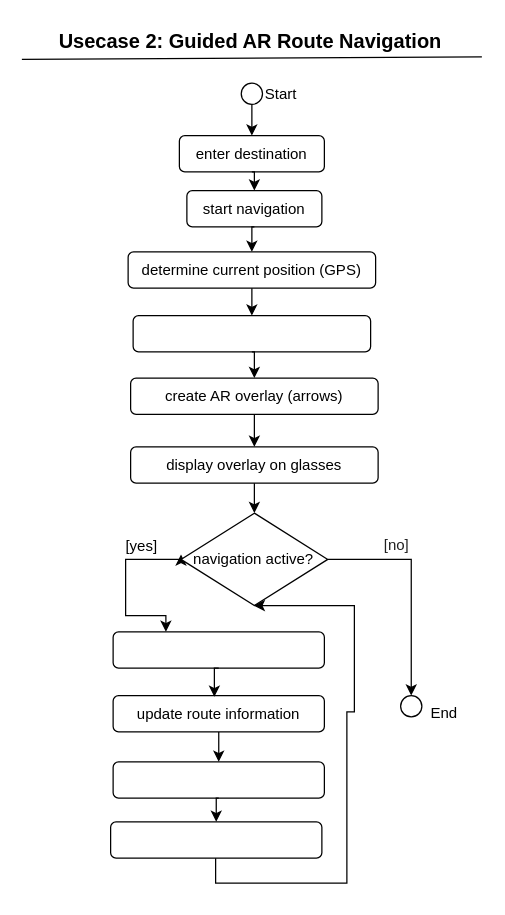
Image size: 505x915. Some labels were removed from this diagram. Here are the shapes that lost their labels. From the top down, the centre of each, then its label:
(x=251, y=333): request route information
(x=218, y=649): update position (GPS)
(x=218, y=779): update AR overlay
(x=215, y=839): display overlay
